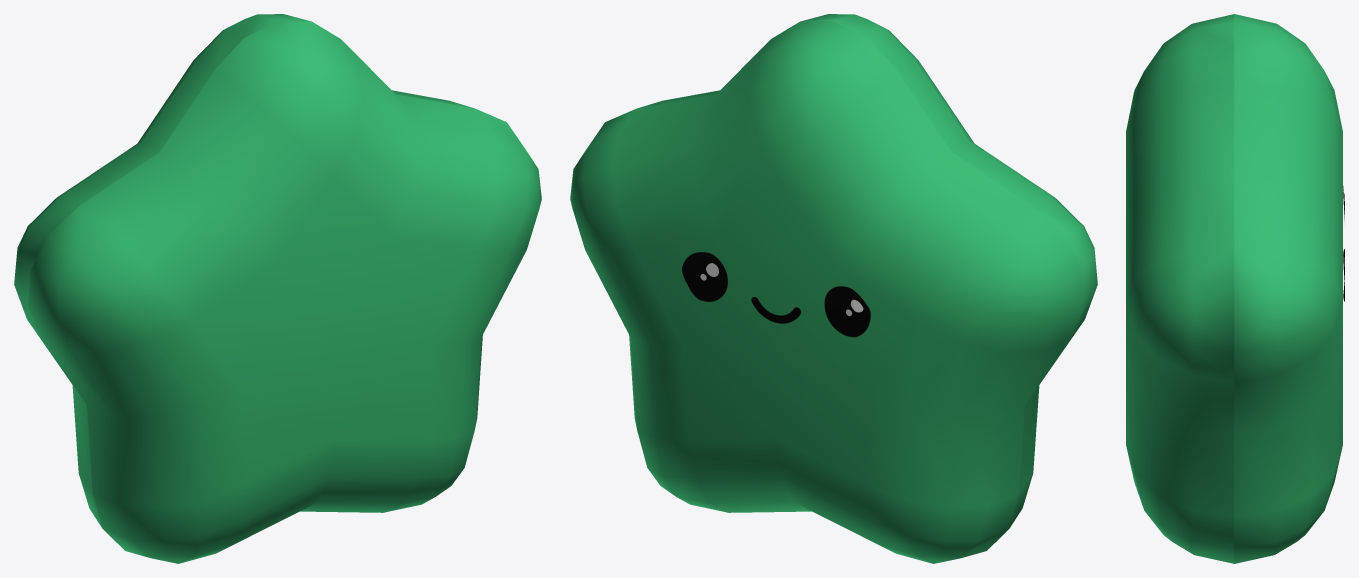
Rendered from proyecto2.glb.
The picture shows the model from 3 angles, left to right: view 1: azimuth 30°, elevation 25°; view 2: azimuth 150°, elevation 25°; view 3: azimuth 270°, elevation 25°; orthographic projection. The views are drawn at different scales.
Parts seen in each view (by area): view 1: Circle; view 2: Circle, Simple_Face_001; view 3: Circle.
Boxes of the visible parts, x1,y1,x2,y2 form: Circle: (14,14,541,563); Circle: (570,14,1097,563); Simple_Face_001: (682,252,870,337); Circle: (1126,14,1342,563).
Bounding box in the file's own units: 2.61 × 2.53 × 1.03.
Materials: 2 (1 with a texture image).
